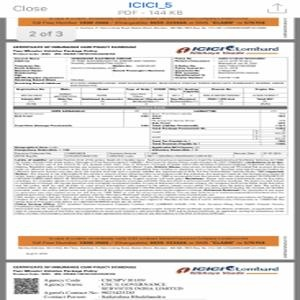image: (173, 45, 279, 57)
table: (14, 106, 290, 155), (13, 84, 287, 107)
text: (14, 159, 284, 214), (12, 56, 287, 83), (13, 44, 137, 56)
